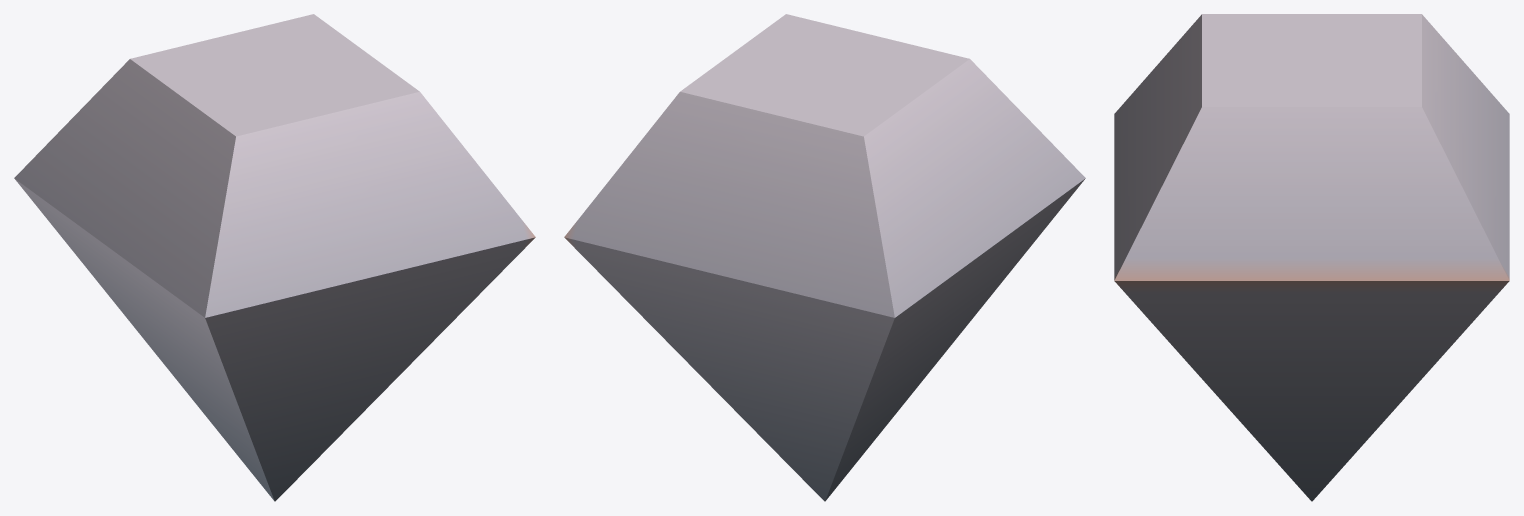
File: 4SideDiamond.fbx
3 renders of one model, left to right at view 1: azimuth 30°, elevation 25°; view 2: azimuth 150°, elevation 25°; view 3: azimuth 270°, elevation 25°, orthographic. The views are drawn at different scales.
Parts seen in each view (by area): view 1: 4SideDiamond; view 2: 4SideDiamond; view 3: 4SideDiamond.
Boxes of the visible parts, x1,y1,x2,y2 form: 4SideDiamond: [14, 14, 535, 501]; 4SideDiamond: [564, 14, 1085, 501]; 4SideDiamond: [1114, 14, 1509, 501].
Size of the model in its own units: 200 by 247 by 200.
